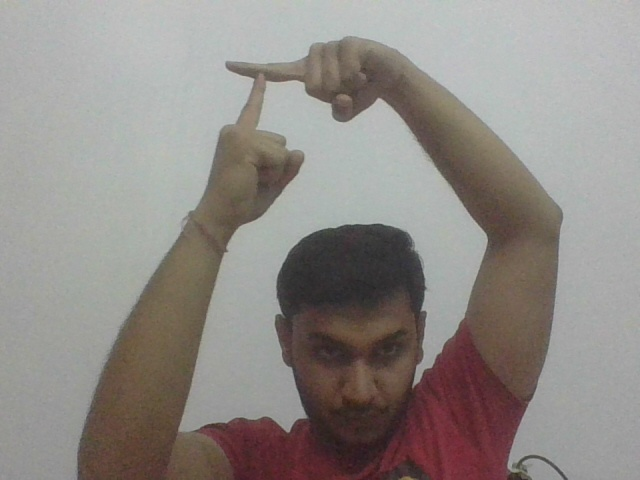T: (221, 51, 293, 123)
